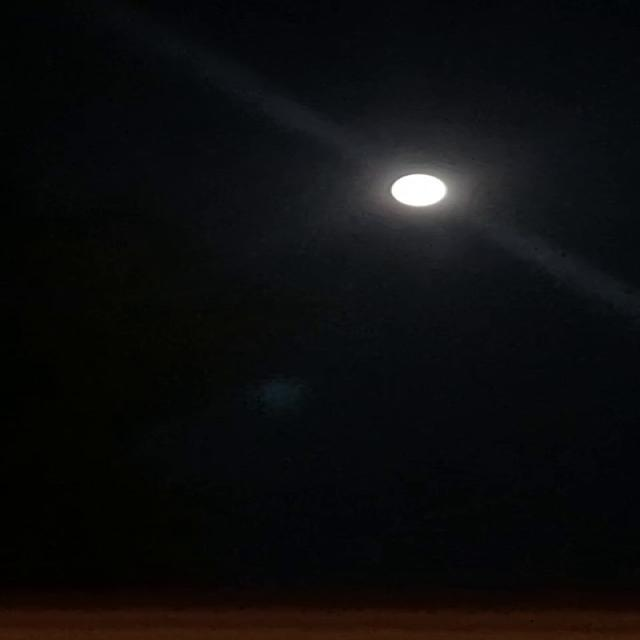moon: (384, 171, 456, 210)
